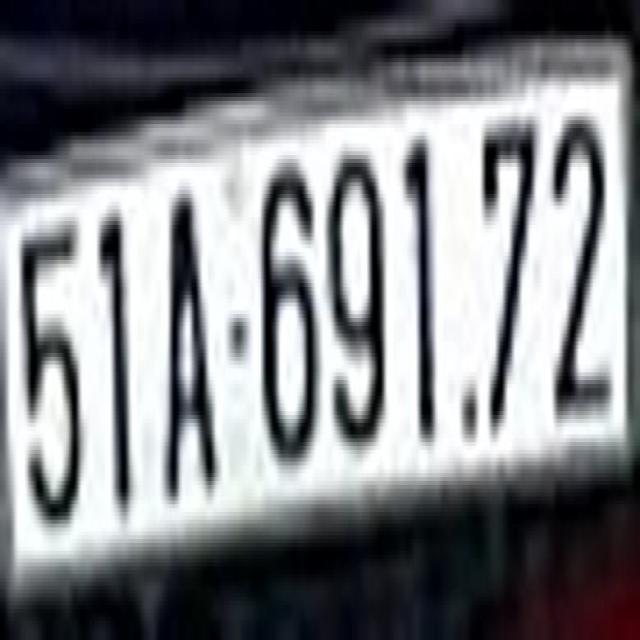1: (96, 182, 136, 555), (400, 132, 442, 466)
2: (550, 100, 620, 434)
5: (21, 206, 84, 582)
6: (256, 120, 319, 516)
7: (478, 105, 537, 454)
9: (324, 140, 389, 497)
A: (158, 182, 226, 543)
